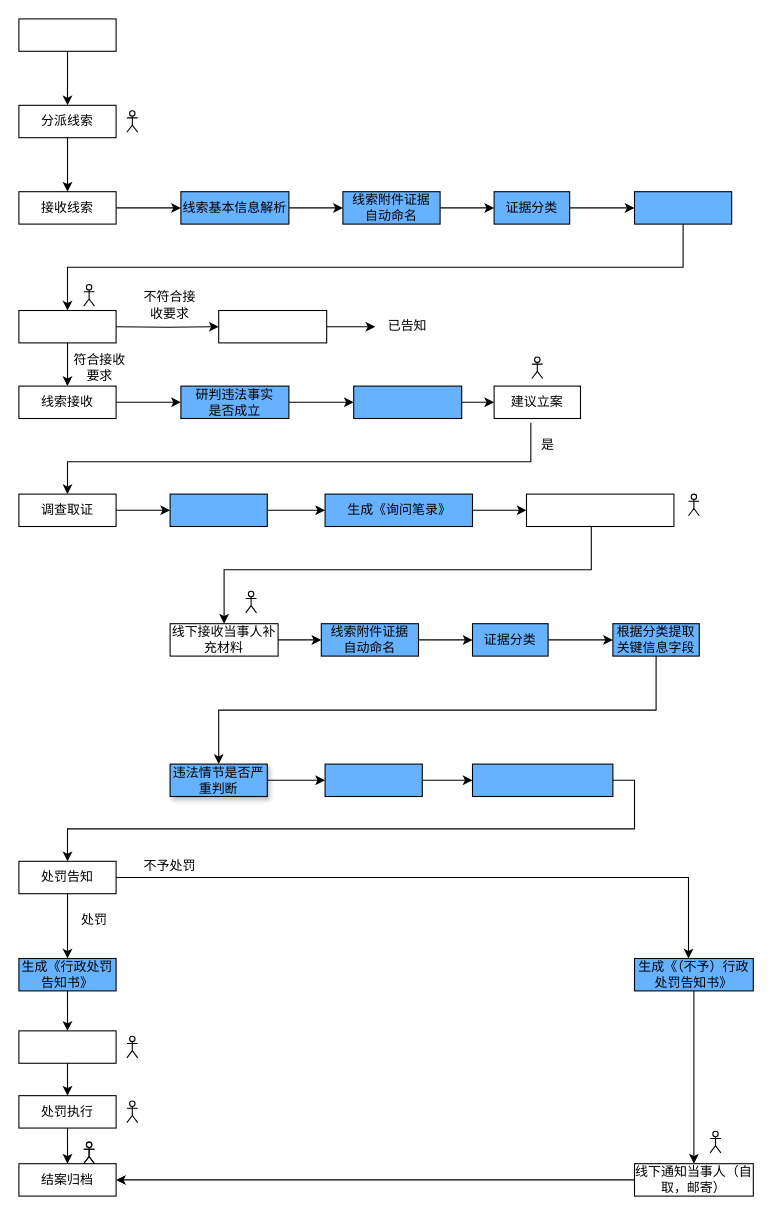
Some shapes in this 772 by 1215 pixel diagram are drawn without their labels. The shapes that lost their labels are listed below. From the top down, each one's centre as x and y in pixels, then its label:
[67,34]: 提交线索
[682,207]: 根据分类 提取证据关键 信息字段
[67,326]: 线索研判
[272,326]: 线索退回
[407,401]: 研判是否具备 立案条件
[218,509]: 深入分析证据 判断缺少信息
[599,509]: 依据《询问笔录》打电话给当事人
[373,779]: 裁量判罚建议
[542,779]: 生成《调查终结报告》
[67,1046]: 行政处罚
